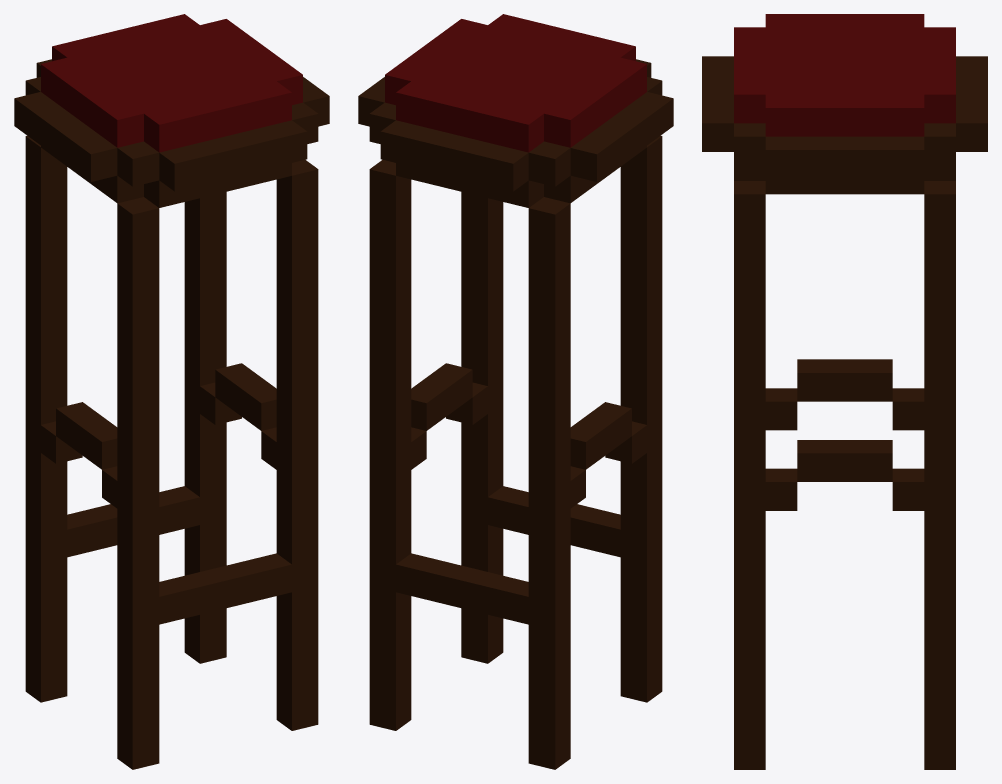
File: Level1-20-1.obj
3 views of the same model, side by side, from view 1: azimuth 30°, elevation 25°; view 2: azimuth 150°, elevation 25°; view 3: azimuth 270°, elevation 25° (orthographic). The views are drawn at different scales.
Parts seen in each view (by area): view 1: Level1-20-1; view 2: Level1-20-1; view 3: Level1-20-1.
Boxes of the visible parts, <box> form: Level1-20-1: <box>14,14,329,769</box>; Level1-20-1: <box>358,14,673,769</box>; Level1-20-1: <box>702,14,987,769</box>.
Size of the model in its own units: 9 by 23 by 9.
1 material, 1 textured.
